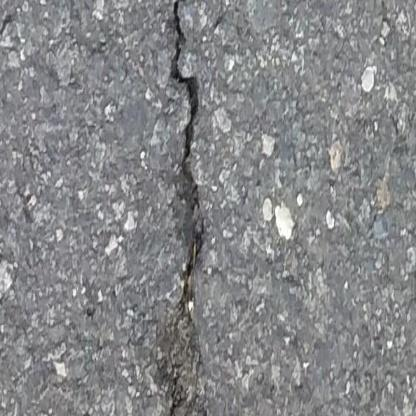Cracks: (152, 0, 214, 416)
